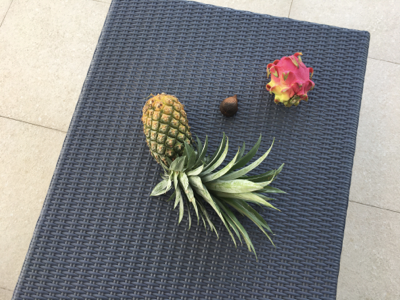dragon fruit: (266, 52, 315, 107)
pineapple: (142, 93, 285, 254)
snake fruit: (221, 94, 239, 118)
